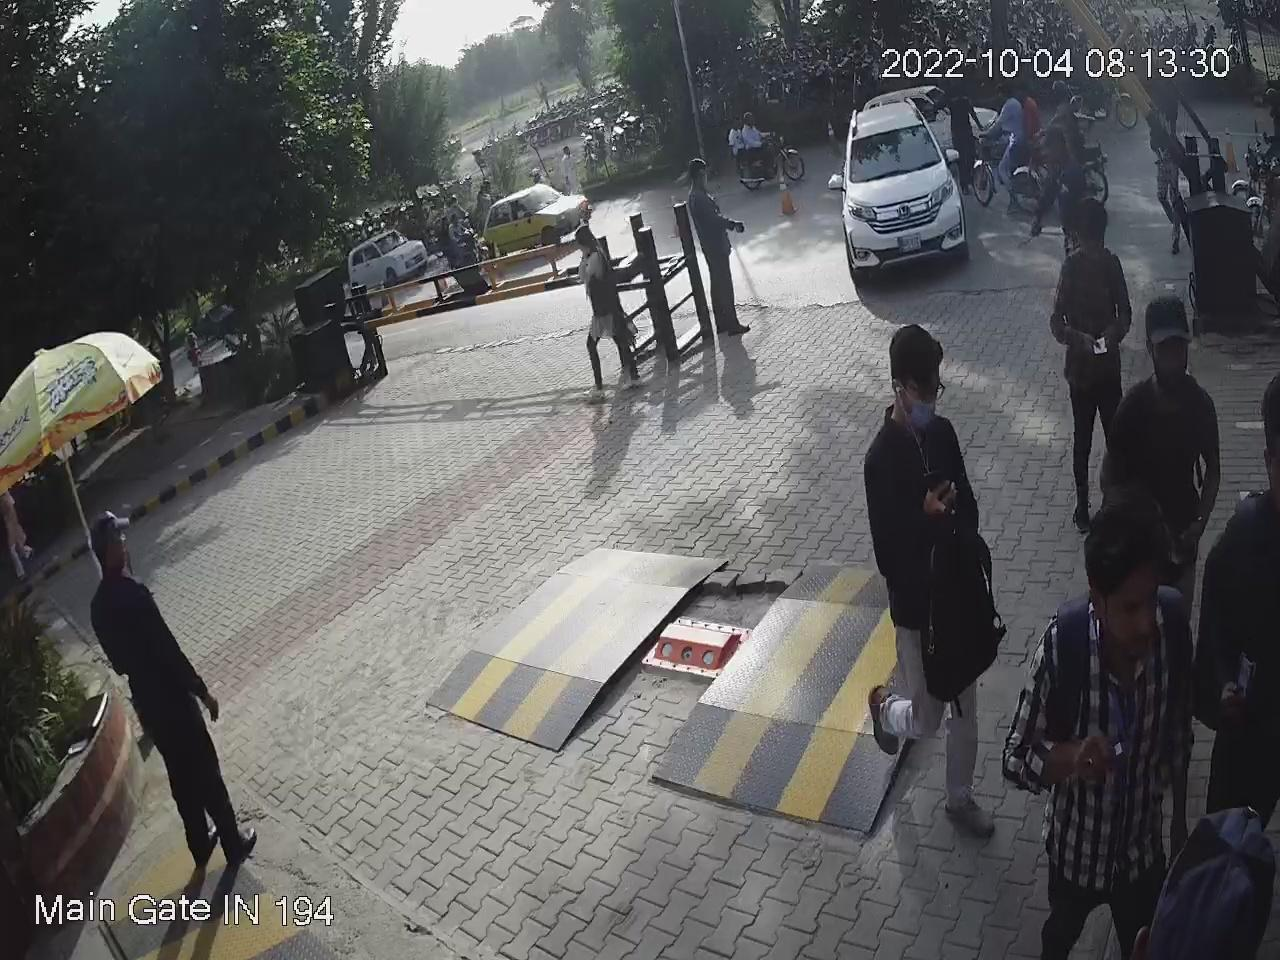windshield: (846, 110, 945, 185)
